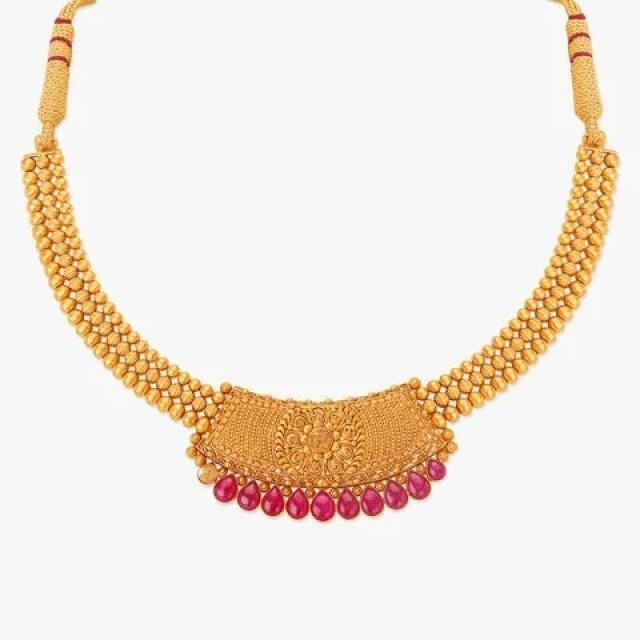missing gem: (310, 429, 331, 451), (197, 463, 218, 485)
